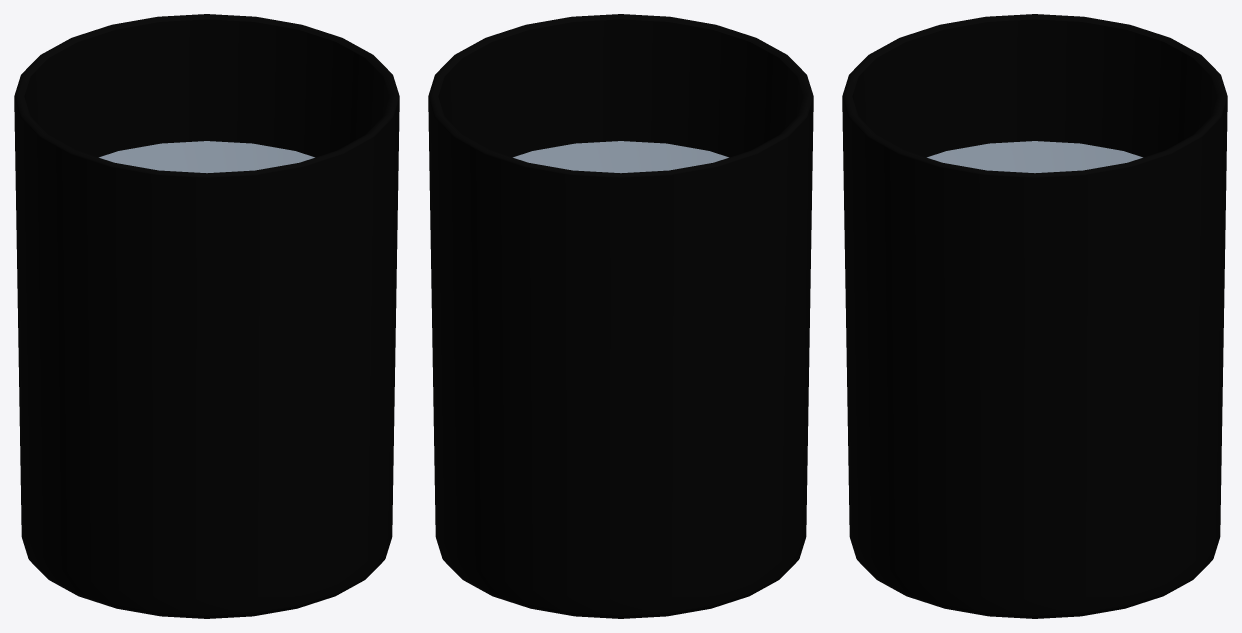
The model's file is Vaso y Leche.fbx.
3 renders of one model, left to right at view 1: azimuth 30°, elevation 25°; view 2: azimuth 150°, elevation 25°; view 3: azimuth 270°, elevation 25°, orthographic.
Parts seen in each view (by area): view 1: Vaso, Contenido; view 2: Vaso, Contenido; view 3: Vaso, Contenido.
Part boxes in pixels (x1,y1,x2,y2): Vaso: [14, 14, 399, 618]; Contenido: [99, 141, 314, 173]; Vaso: [428, 14, 813, 618]; Contenido: [513, 141, 728, 173]; Vaso: [842, 14, 1227, 618]; Contenido: [927, 141, 1142, 173].
Size of the model in its own units: 202 by 263 by 202.
